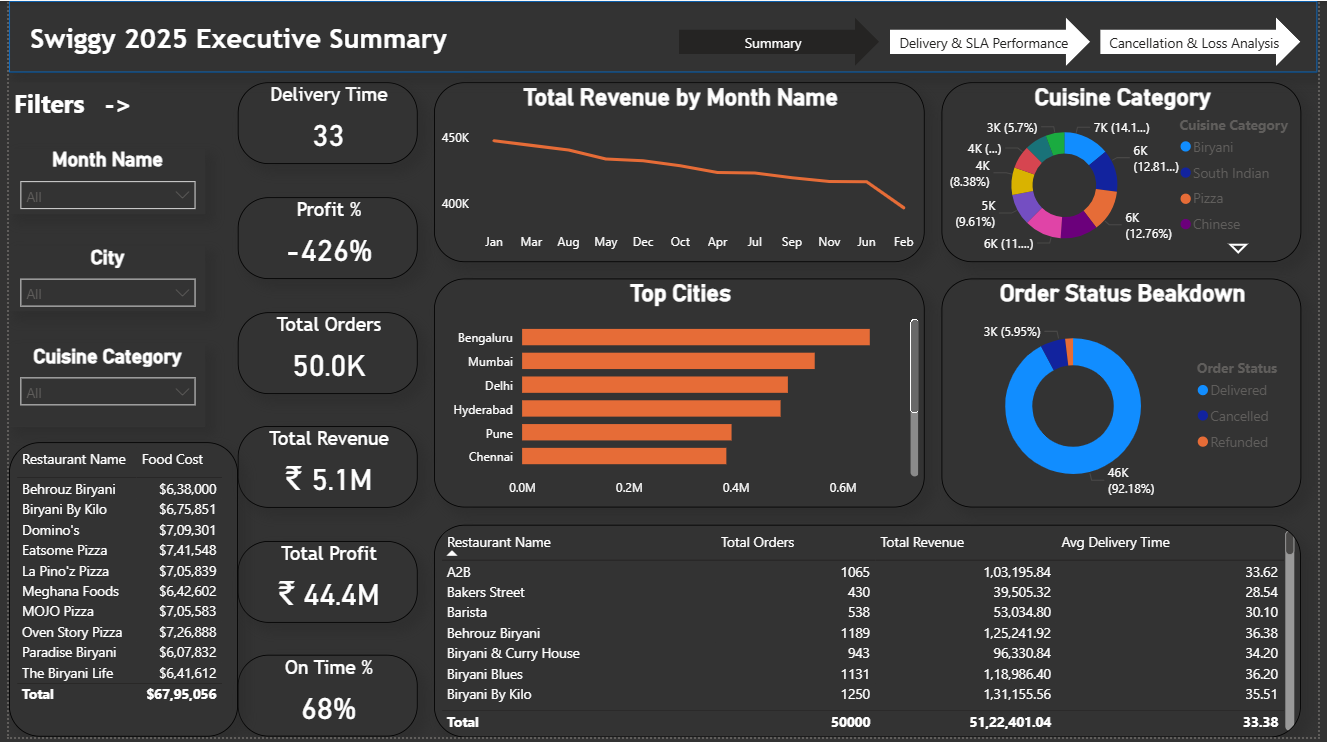

This screenshot's page, from the dashboard's own definition file:
{"tool":"powerbi","page":{"name":"Summary","canvas":[1280,720],"ordinal":0},"visuals":[{"type":"card","title":"Total Orders","fields":{"Values":["Sheet1.Total Orders"]},"box":[224,304,176,80],"z":0},{"type":"card","title":"Total Revenue","fields":{"Values":["Sheet1.Total Revenue"]},"box":[224,416,176,80],"z":1000},{"type":"card","title":"Total Profit","fields":{"Values":["Sum(Sheet1.Net Order Value)"]},"box":[224,528,176,80],"z":2000},{"type":"card","title":"Profit %","fields":{"Values":["Sheet1.Profit Margin %"]},"box":[224,192,176,80],"z":3000},{"type":"card","title":"On Time %","fields":{"Values":["Sheet1.On Time %"]},"box":[224,640,176,80],"z":4000},{"type":"card","title":"Delivery Time","fields":{"Values":["Sheet1.Avg Delivery Time"]},"box":[224,80,176,80],"z":5000},{"type":"lineChart","fields":{"Y":["Sheet1.Total Revenue"],"Category":["Sheet1.Month Name"]},"box":[416,80,480,176],"z":6000},{"type":"barChart","title":"Top Cities","fields":{"Y":["Sheet1.Total Revenue"],"Category":["Sheet1.City"]},"box":[416,272,480,224],"z":7000},{"type":"donutChart","title":"Cuisine Category","fields":{"Y":["Sheet1.Total Orders"],"Category":["Sheet1.Cuisine Category"]},"box":[912,80,352,176],"z":8000},{"type":"donutChart","title":"Order Status Beakdown","fields":{"Category":["Sheet1.Order Status"],"Y":["Sheet1.Total Orders"]},"box":[912,272,352,224],"z":9000},{"type":"slicer","title":"Month Name","fields":{"Values":["Sheet1.Month Name"]},"box":[0,144,192,64],"z":10000},{"type":"slicer","title":"City","fields":{"Values":["Sheet1.City"]},"box":[0,240,192,64],"z":11000},{"type":"slicer","title":"Cuisine Category","fields":{"Values":["Sheet1.Cuisine Category"]},"box":[0,336,192,80],"z":12000},{"type":"shape","box":[0,0,1280,70],"z":13000},{"type":"textbox","box":[16,16,800,48],"z":14000},{"type":"tableEx","fields":{"Values":["Sheet1.Restaurant Name","Sheet1.Total Orders","Sheet1.Total Revenue","Sheet1.Avg Delivery Time"]},"box":[416,512,848,208],"z":15000},{"type":"textbox","box":[0,80,128,48],"z":16000},{"type":"tableEx","fields":{"Values":["Sheet1.Restaurant Name","Sum(Sheet1.Food Cost)"]},"box":[0,432,224,288],"z":17000},{"type":"pageNavigator","box":[656,16,608,48],"z":18000}]}

Visuals, with their boxes in screenshot pixels (x1, y1, x2, y2), scaled from the page's 1280x720 canvas onto the 1327x742 screenshot:
"Total Orders" card: x1=232, y1=313, x2=415, y2=396
"Total Revenue" card: x1=232, y1=429, x2=415, y2=511
"Total Profit" card: x1=232, y1=544, x2=415, y2=627
"Profit %" card: x1=232, y1=198, x2=415, y2=280
"On Time %" card: x1=232, y1=660, x2=415, y2=741
"Delivery Time" card: x1=232, y1=82, x2=415, y2=165
lineChart - Sheet1.Total Revenue x Sheet1.Month Name: x1=431, y1=82, x2=929, y2=264
"Top Cities" barChart: x1=431, y1=280, x2=929, y2=511
"Cuisine Category" donutChart: x1=945, y1=82, x2=1310, y2=264
"Order Status Beakdown" donutChart: x1=945, y1=280, x2=1310, y2=511
"Month Name" slicer: x1=0, y1=148, x2=199, y2=214
"City" slicer: x1=0, y1=247, x2=199, y2=313
"Cuisine Category" slicer: x1=0, y1=346, x2=199, y2=429
shape: x1=0, y1=0, x2=1326, y2=72
textbox: x1=17, y1=16, x2=846, y2=66
tableEx - Sheet1.Restaurant Name x Sheet1.Total Orders: x1=431, y1=528, x2=1310, y2=741
textbox: x1=0, y1=82, x2=133, y2=132
tableEx - Sheet1.Restaurant Name x Sum(Sheet1.Food Cost): x1=0, y1=445, x2=232, y2=741
pageNavigator: x1=680, y1=16, x2=1310, y2=66
